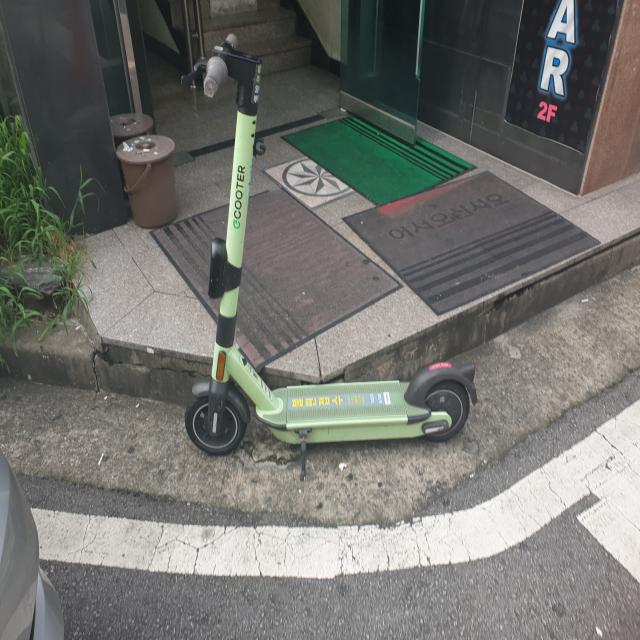bike: (182, 33, 480, 479)
car: (0, 228, 66, 640), (0, 361, 66, 640)
